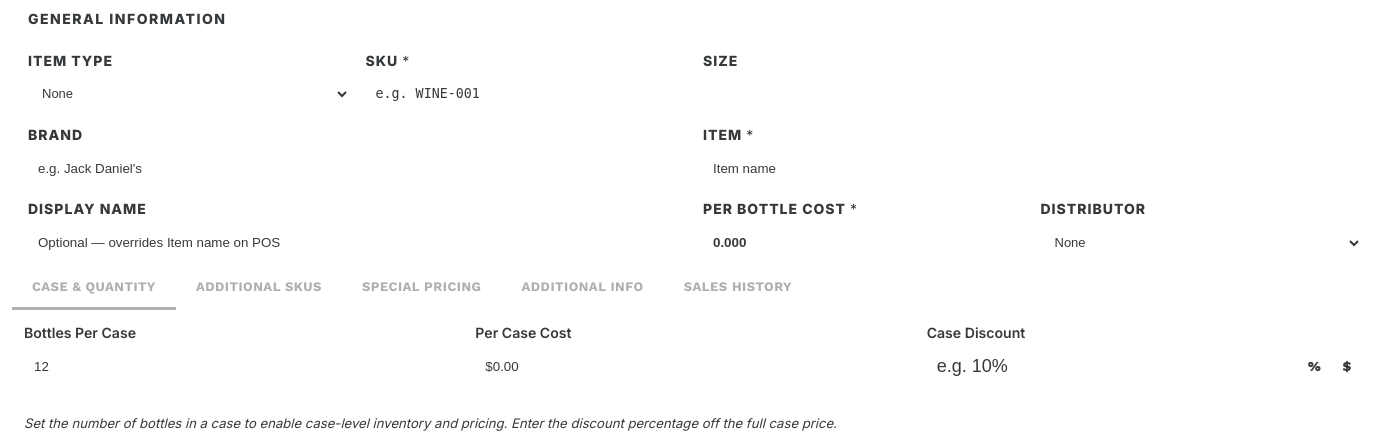
Test: ItemForm › strips invalid characters from SKU and auto-uppercases
Type "abc@#123-def" into the field named "SKU" at (526,94), box left=366, top=76, right=687, bottom=112
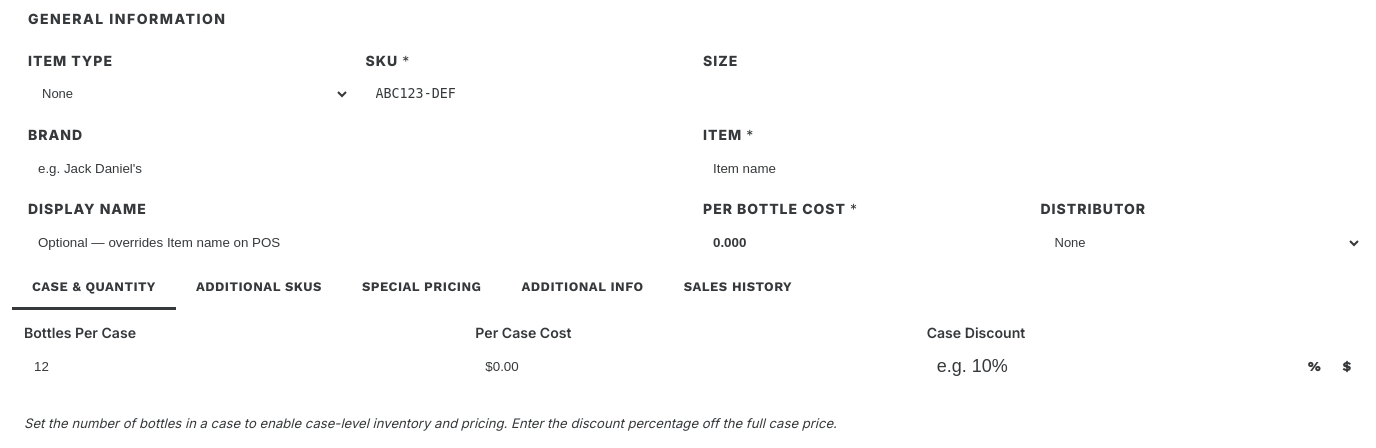
Now the field named "SKU" holds "ABC123-DEF", box left=366, top=76, right=687, bottom=112
